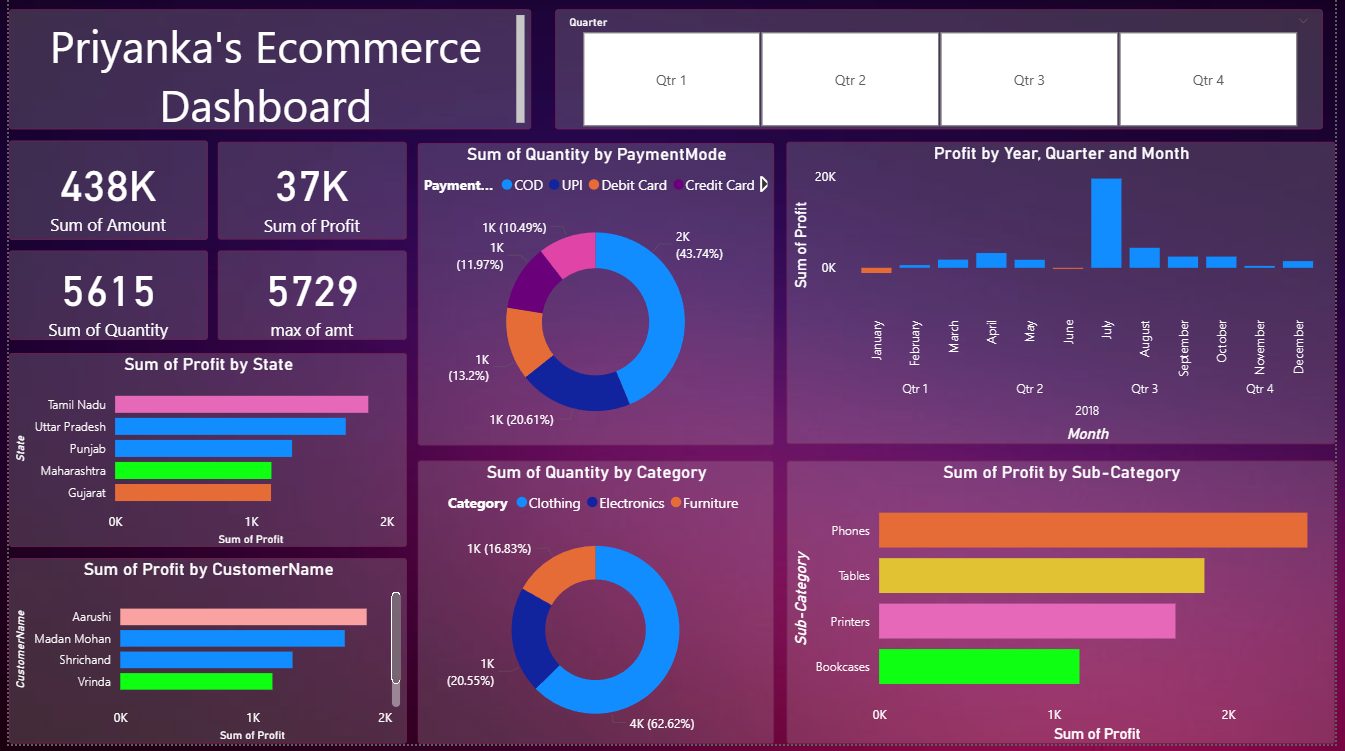

The dashboard page shown, as its layout file describes it:
{"tool":"powerbi","page":{"name":"Page 1","canvas":[1280,720],"ordinal":0},"visuals":[{"type":"columnChart","title":"Profit by Year, Quarter and Month","fields":{"Y":["Details (2).Profit"],"Category":["Orders (2).Order Date.Variation.Date Hierarchy.Year","Orders (2).Order Date.Variation.Date Hierarchy.Quarter","Orders (2).Order Date.Variation.Date Hierarchy.Month","Orders (2).Order Date.Variation.Date Hierarchy.Day"]},"box":[750.1,139,529.9,291.8],"z":0},{"type":"barChart","fields":{"Y":["Details (2).Profit"],"Category":["Details (2).Sub-Category"]},"box":[750.1,445.9,529.9,273.9],"z":1000},{"type":"donutChart","fields":{"Y":["Details (2).Quantity"],"Category":["Details (2).PaymentMode"]},"box":[394.7,139.6,344,291.8],"z":2000},{"type":"donutChart","fields":{"Y":["Details (2).Quantity"],"Category":["Details (2).Category"]},"box":[394.7,446.9,344,273.5],"z":3000},{"type":"barChart","fields":{"Y":["Details (2).Profit"],"Category":["Orders (2).CustomerName"]},"box":[0,540.9,384,178.9],"z":4000},{"type":"barChart","fields":{"Y":["Details (2).Profit"],"Category":["Orders (2).State"]},"box":[0,342.7,384,187.2],"z":5000},{"type":"card","fields":{"Values":["Details (2).Quantity"]},"box":[0,244.3,192.1,86.4],"z":6000},{"type":"card","fields":{"Values":["Details (2).max of amt"]},"box":[201.7,244.3,182.5,86.4],"z":7000},{"type":"card","fields":{"Values":["Details (2).Profit"]},"box":[201.7,138.6,182.5,94.7],"z":8000},{"type":"card","fields":{"Values":["Details (2).Amount"]},"box":[0,137.2,192.1,96.1],"z":9000},{"type":"textbox","box":[0,11,503.7,115.6],"z":10000},{"type":"slicer","fields":{"Values":["Orders (2).Order Date.Variation.Date Hierarchy.Quarter"]},"box":[527.1,11,740.5,115.6],"z":11000}]}

Visuals, with their boxes in screenshot pixels (x1, y1, x2, y2), scaled from the page's 1280x720 canvas onto the 1345x751 screenshot:
"Profit by Year, Quarter and Month" columnChart: x1=788 y1=145 x2=1344 y2=449
barChart - Details (2).Profit x Details (2).Sub-Category: x1=788 y1=465 x2=1344 y2=750
donutChart - Details (2).Quantity x Details (2).PaymentMode: x1=415 y1=146 x2=776 y2=450
donutChart - Details (2).Quantity x Details (2).Category: x1=415 y1=466 x2=776 y2=750
barChart - Details (2).Profit x Orders (2).CustomerName: x1=0 y1=564 x2=404 y2=750
barChart - Details (2).Profit x Orders (2).State: x1=0 y1=357 x2=404 y2=553
card - Details (2).Quantity: x1=0 y1=255 x2=202 y2=345
card - Details (2).max of amt: x1=212 y1=255 x2=404 y2=345
card - Details (2).Profit: x1=212 y1=145 x2=404 y2=243
card - Details (2).Amount: x1=0 y1=143 x2=202 y2=243
textbox: x1=0 y1=11 x2=529 y2=132
slicer - Orders (2).Order Date.Variation.Date Hierarchy.Quarter: x1=554 y1=11 x2=1332 y2=132
